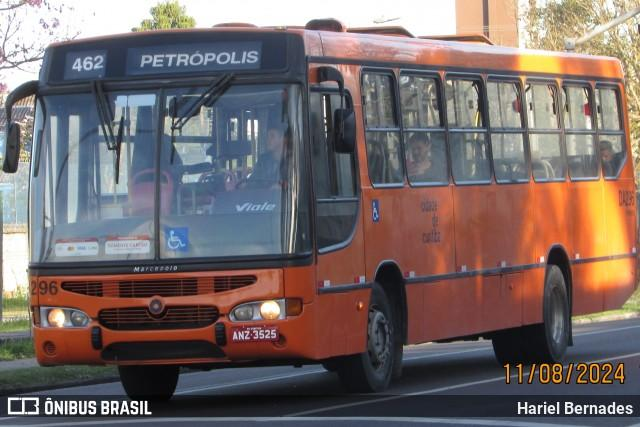PETROPOLIS: (135, 48, 262, 71)
